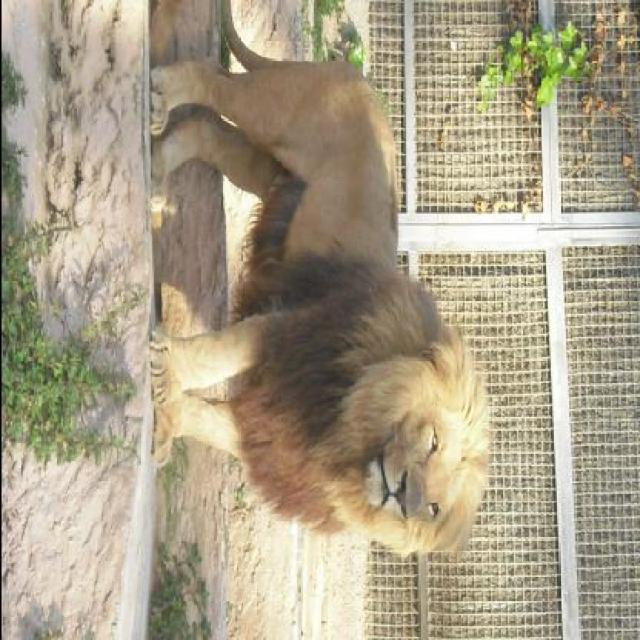Lion: (137, 10, 505, 572)
